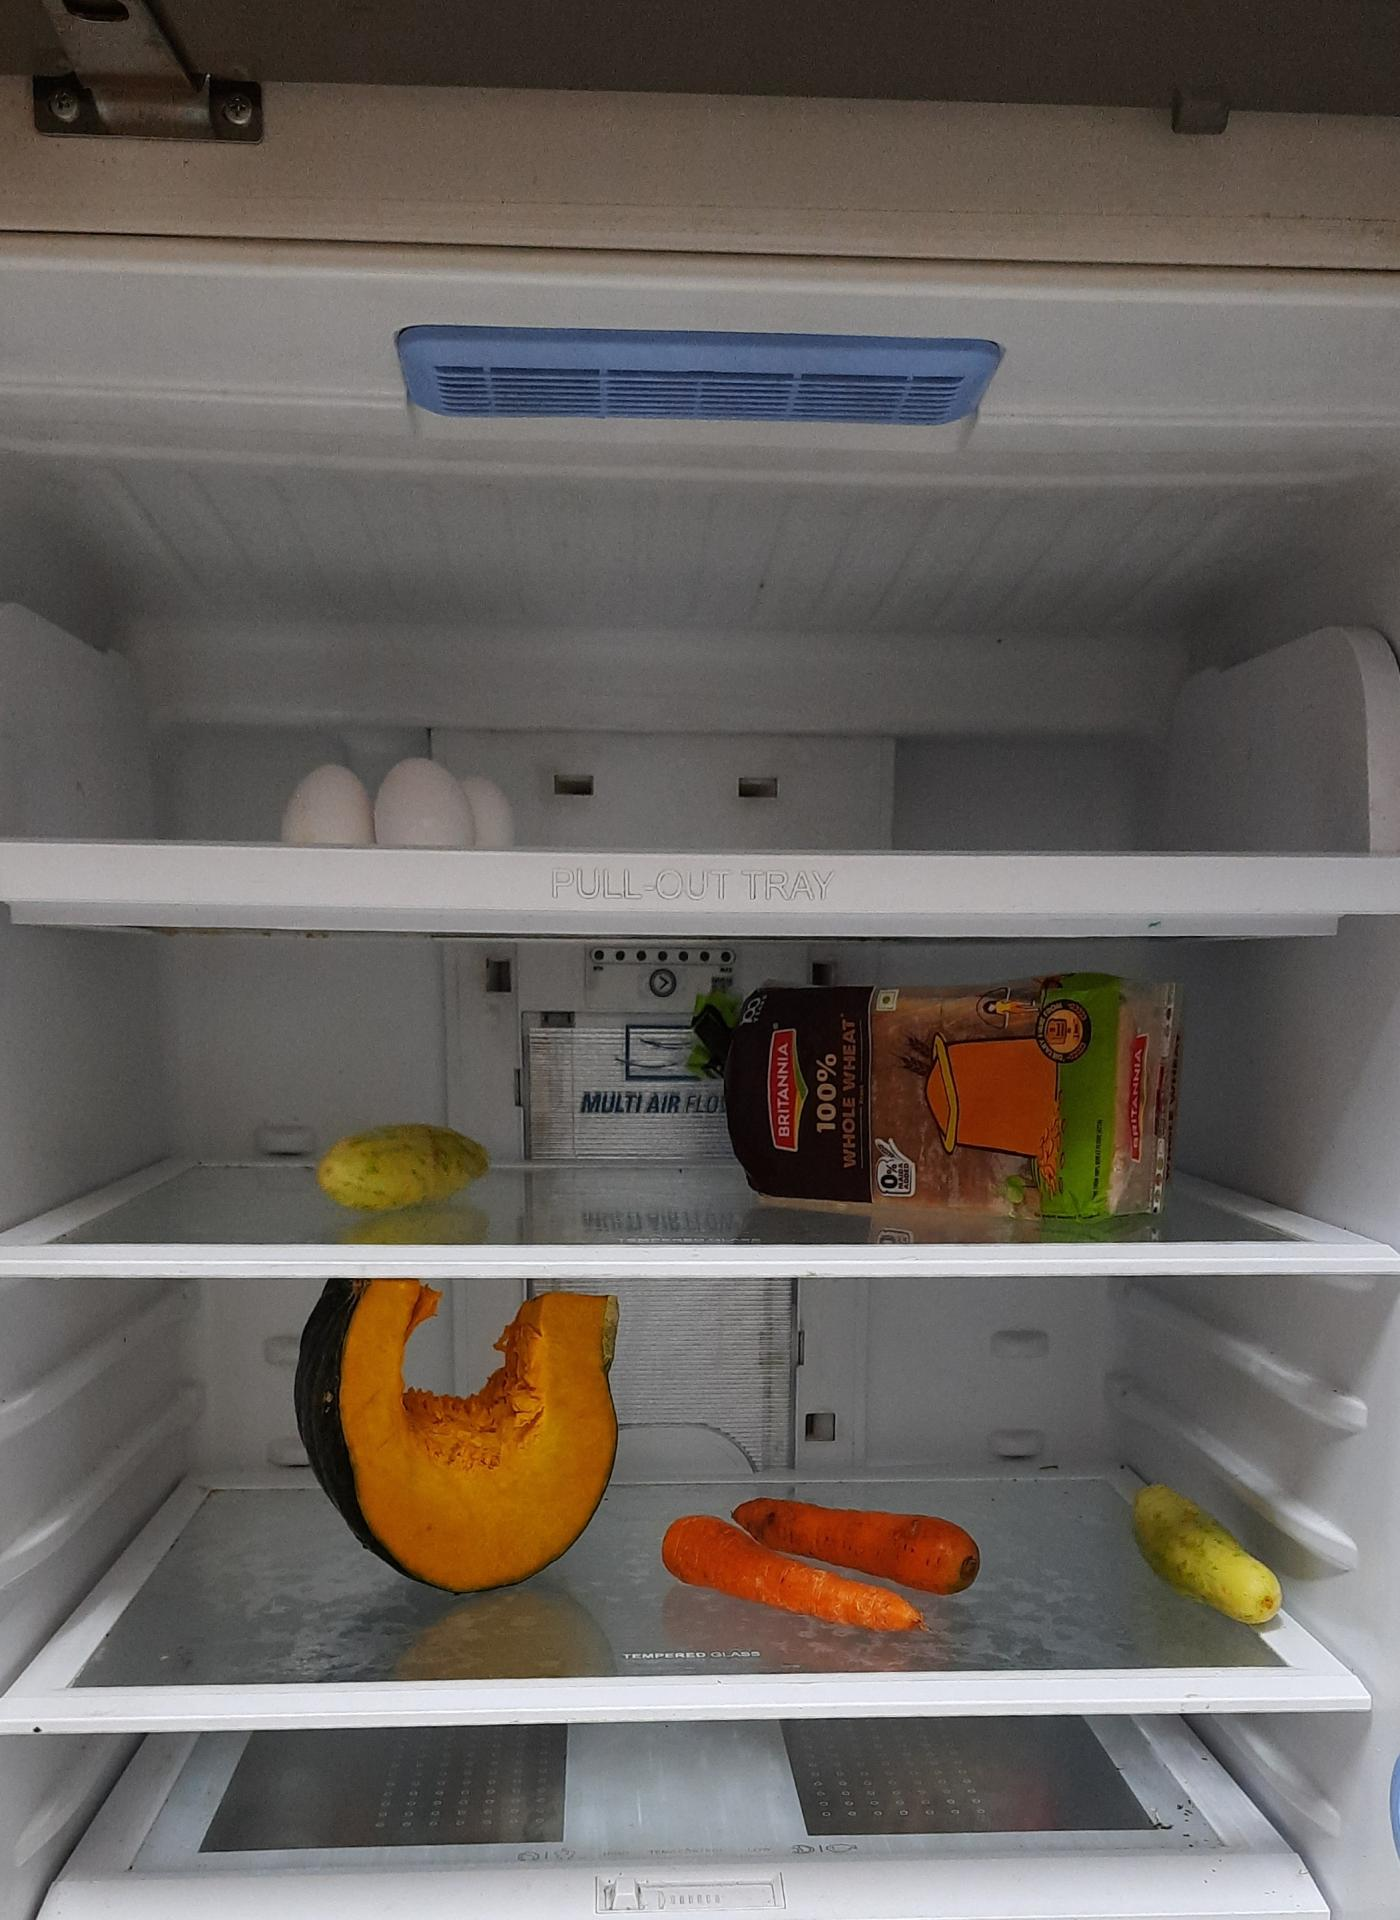bread: (698, 961, 1184, 1212)
carrots: (660, 1492, 988, 1628)
cucumber: (1130, 1488, 1293, 1629), (310, 1124, 496, 1210)
egg: (277, 760, 513, 853)
pumpkin: (300, 1282, 634, 1598)
